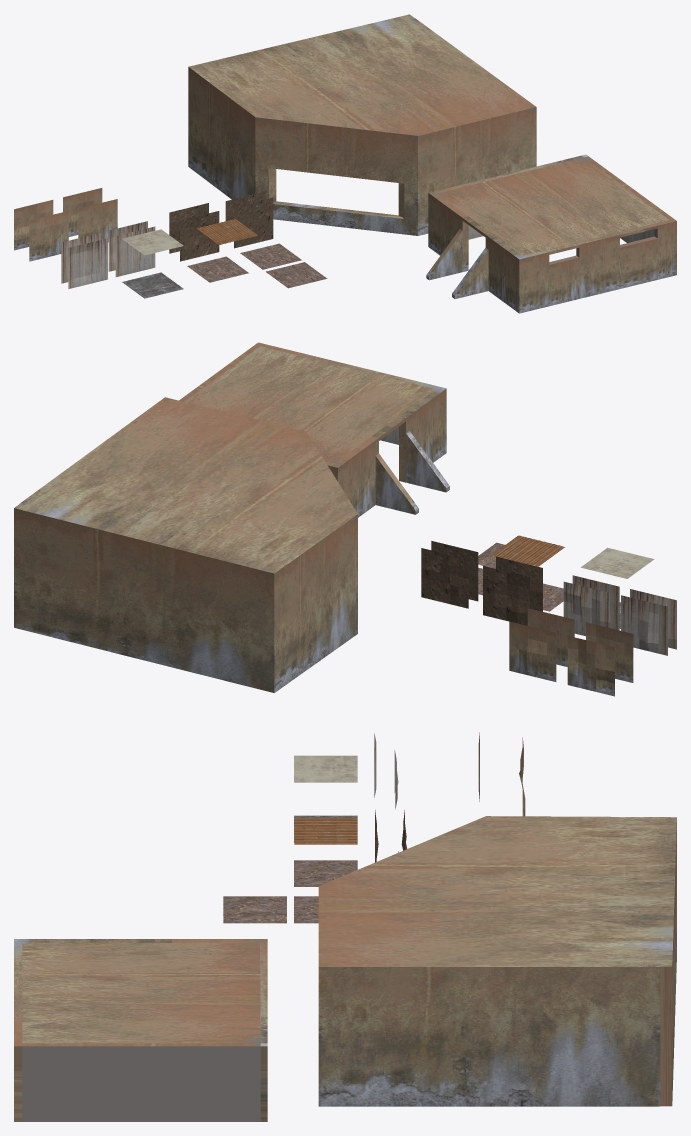
File: WW2Environment.fbx
The picture shows the model from 3 angles, top to bottom: view 1: azimuth 30°, elevation 25°; view 2: azimuth 150°, elevation 25°; view 3: azimuth 270°, elevation 25°; orthographic projection. The views are drawn at different scales.
Parts seen in each view (by area): view 1: Bunker2, Bunker1, BunkerWallBump3, ConcreteWallBump3, TrenchWallBump3, TrenchWallFlat, ConcreteWallFlat, BunkerWallFlat, ConcreteWallBump2, BunkerFloor, BunkerCieling, TrenchGroundBump2 (+8 smaller); view 2: Bunker2, Bunker1, TrenchWallBump1, ConcreteWallBump2, ConcreteWallBump1, TrenchWallBump2, BunkerWallBump2, BunkerWallBump1, ConcreteWallBump3, MetalRoof, BunkerCieling, ConcreteWallFlat (+4 smaller); view 3: Bunker2, Bunker1, TrenchGroundBump2, MetalRoof, BunkerCieling, TrenchGroundBump1, TrenchGroundFlat.
Part boxes in pixels (left/top/right/bottom): Bunker2: left=188, top=14, right=536, bottom=235; Bunker1: left=426, top=154, right=676, bottom=313; BunkerWallBump3: left=68, top=238, right=107, bottom=288; ConcreteWallBump3: left=29, top=211, right=68, bottom=261; TrenchWallBump3: left=180, top=211, right=219, bottom=261; TrenchWallFlat: left=234, top=197, right=273, bottom=248; ConcreteWallFlat: left=78, top=199, right=117, bottom=242; BunkerWallFlat: left=115, top=226, right=155, bottom=277; ConcreteWallBump2: left=14, top=200, right=53, bottom=250; BunkerFloor: left=122, top=272, right=183, bottom=298; BunkerCieling: left=122, top=229, right=183, bottom=255; TrenchGroundBump2: left=266, top=262, right=327, bottom=288; Bunker2: left=14, top=397, right=357, bottom=692; Bunker1: left=179, top=342, right=449, bottom=517; TrenchWallBump1: left=421, top=548, right=468, bottom=608; ConcreteWallBump2: left=567, top=636, right=614, bottom=696; ConcreteWallBump1: left=509, top=621, right=556, bottom=681; TrenchWallBump2: left=483, top=566, right=529, bottom=625; BunkerWallBump2: left=621, top=595, right=667, bottom=655; BunkerWallBump1: left=563, top=581, right=610, bottom=636; ConcreteWallBump3: left=586, top=622, right=633, bottom=682; MetalRoof: left=491, top=535, right=564, bottom=566; BunkerCieling: left=581, top=547, right=654, bottom=578; ConcreteWallFlat: left=527, top=608, right=574, bottom=666; Bunker2: left=318, top=816, right=676, bottom=1106; Bunker1: left=14, top=939, right=267, bottom=1121; TrenchGroundBump2: left=223, top=896, right=286, bottom=923; MetalRoof: left=294, top=817, right=357, bottom=844; BunkerCieling: left=294, top=755, right=357, bottom=782; TrenchGroundBump1: left=294, top=860, right=357, bottom=886; TrenchGroundFlat: left=294, top=896, right=318, bottom=923.
Size of the model in its own units: 2438 by 485 by 2086.
7 materials, 7 textured.
